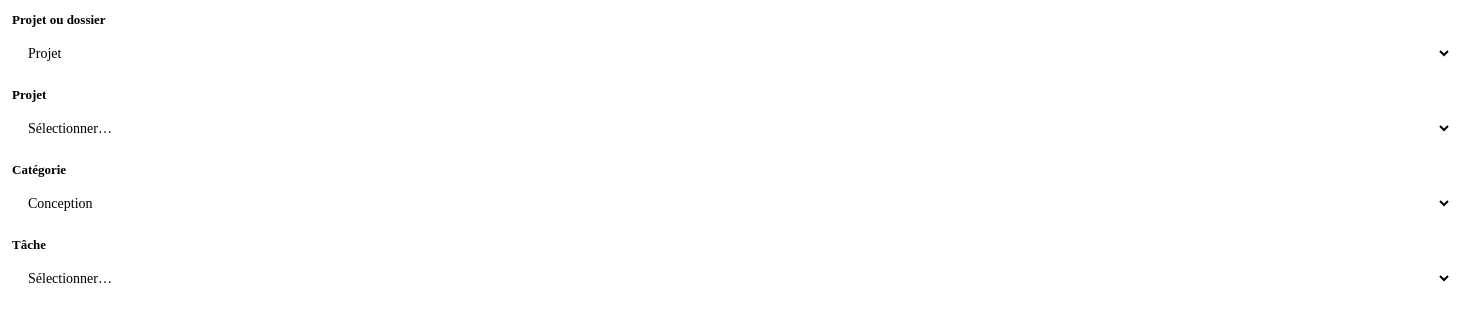
Test: ReferenceFields — cascade catégorie → tâche › changer de catégorie affiche les tâches de cette catégorie et sélectionne la première
The width and height of the screenshot is (1464, 315).
Select "Fabrication" in the dropdown labelled "Catégorie" at (732, 204), box [12,184,1452,223]
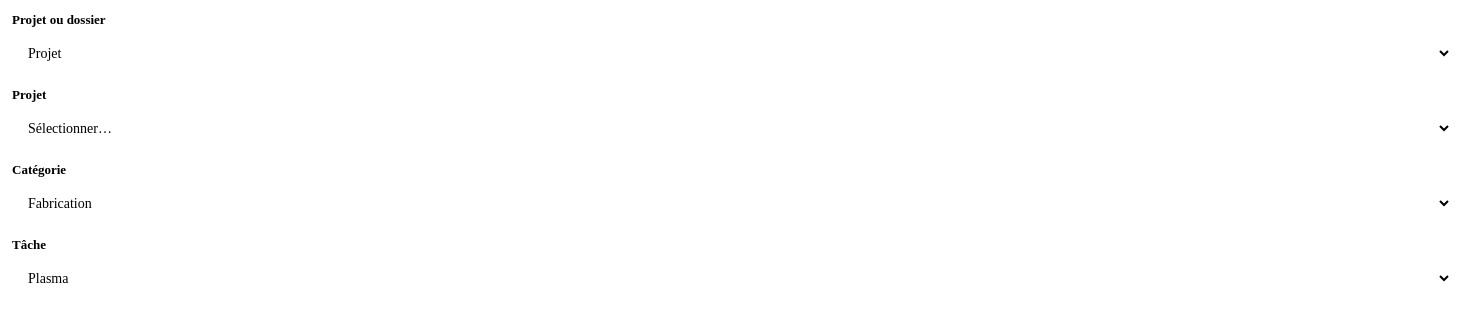
expect the dropdown labelled "Tâche" shows "Plasma": met, box [12,259,1452,298]
